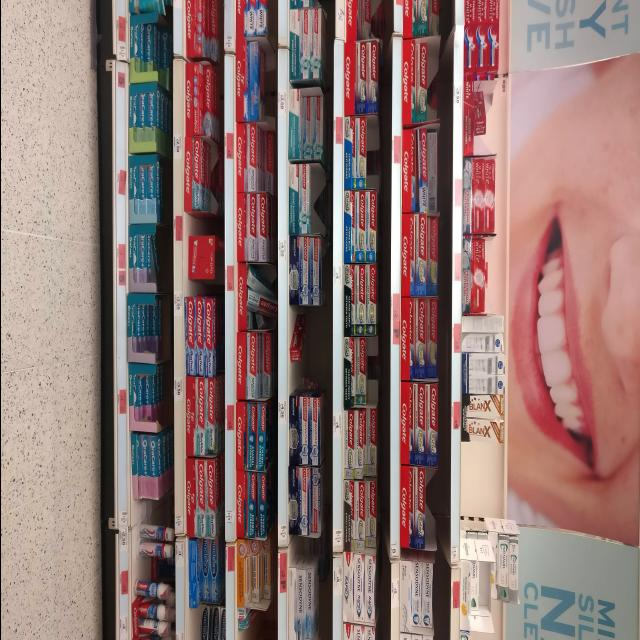empty_space: (459, 442, 496, 517), (130, 499, 164, 528), (288, 360, 312, 386), (185, 607, 203, 639), (133, 553, 151, 575)
